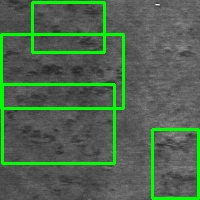rolled-in_scale: (1, 34, 123, 108), (3, 84, 114, 163), (32, 2, 104, 52), (152, 129, 198, 198)
